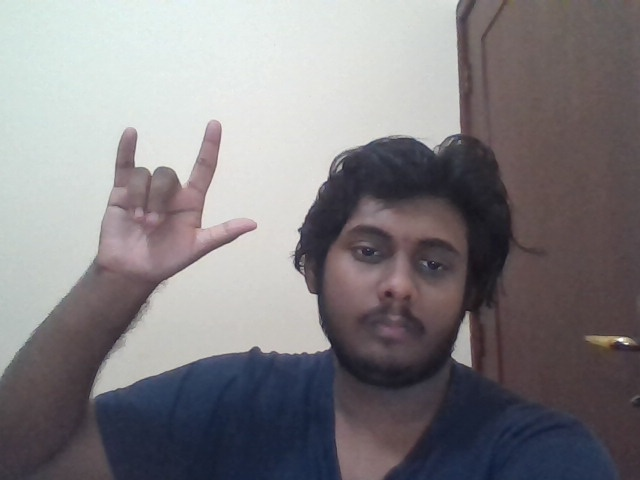iloveyou: (97, 119, 257, 288)
